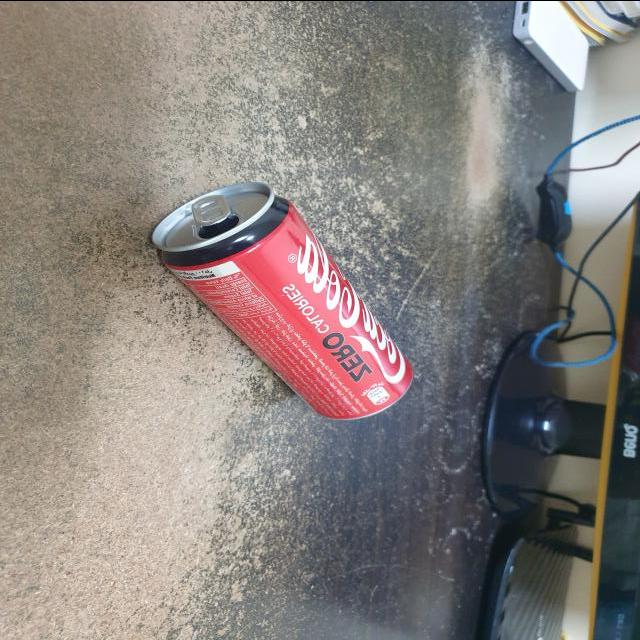can: (154, 178, 420, 422)
